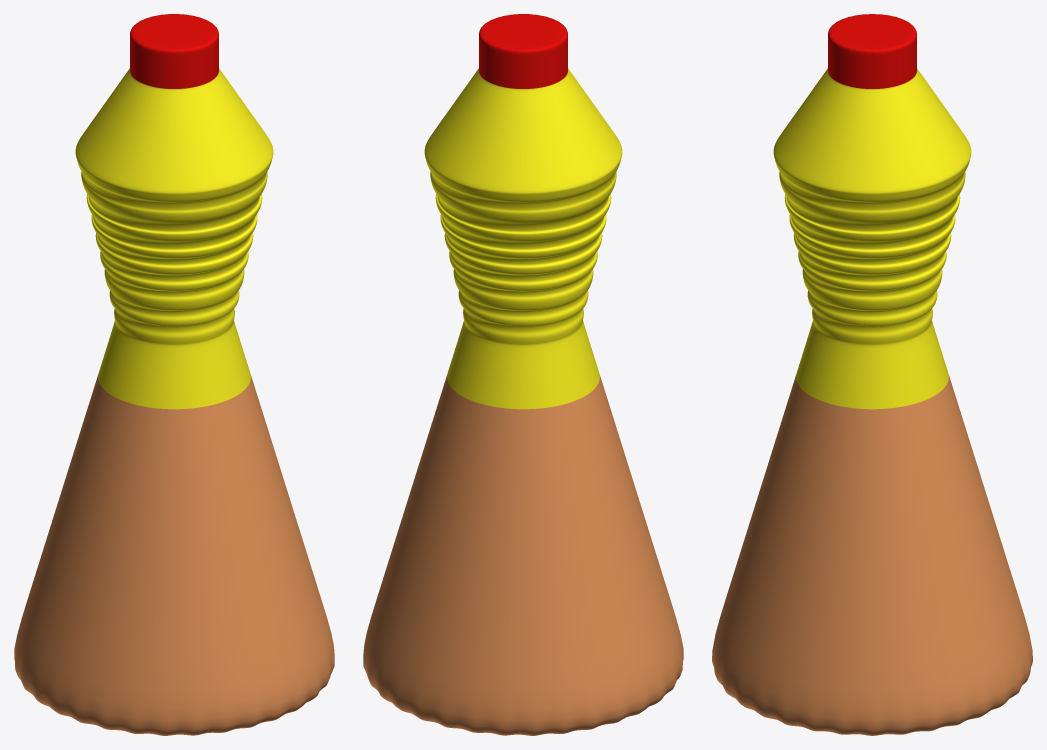
The model's file is goma.fbx.
The picture shows the model from 3 angles, left to right: view 1: azimuth 30°, elevation 25°; view 2: azimuth 150°, elevation 25°; view 3: azimuth 270°, elevation 25°; orthographic projection.
Visible parts, largest first — view 1: Cylinder; view 2: Cylinder; view 3: Cylinder.
Part boxes in pixels (x1,y1,x2,y2): Cylinder: (14, 14, 334, 735); Cylinder: (363, 14, 683, 735); Cylinder: (712, 14, 1032, 735).
Bounding box in the file's own units: 187 × 416 × 187.
